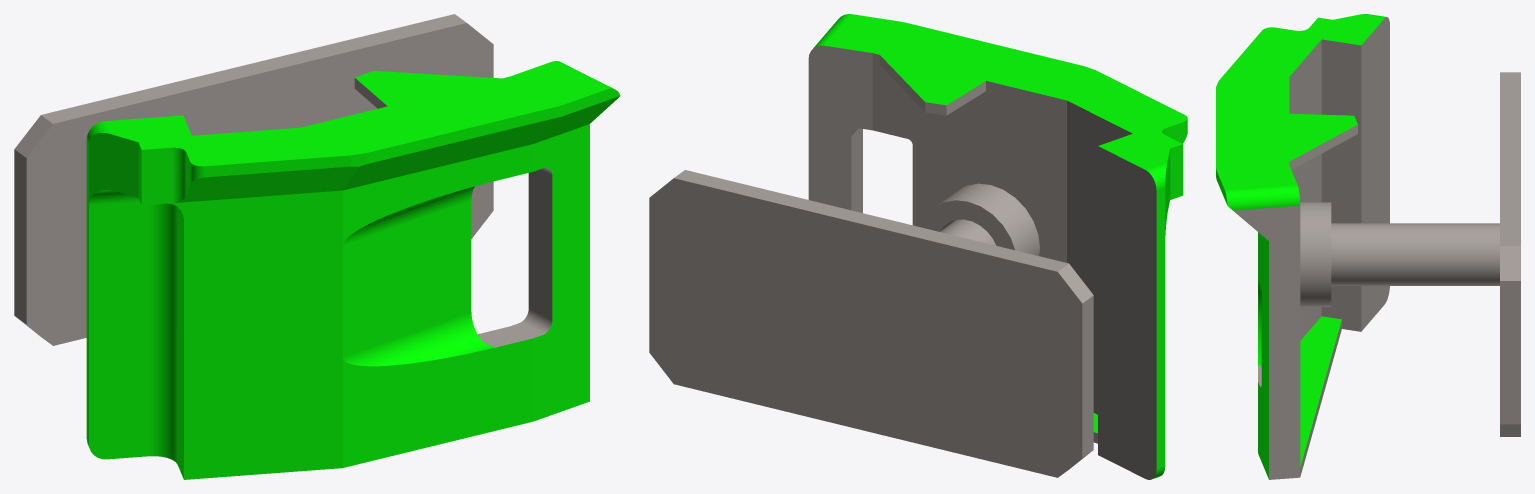
The model's file is source.obj.
The picture shows the model from 3 angles, left to right: view 1: azimuth 30°, elevation 25°; view 2: azimuth 150°, elevation 25°; view 3: azimuth 270°, elevation 25°; orthographic projection. The views are drawn at different scales.
Parts seen in each view (by area): view 1: sample_step; view 2: sample_step; view 3: sample_step.
Boxes of the visible parts, x1=… form: sample_step: x1=14, y1=14, x2=620, y2=479; sample_step: x1=649, y1=14, x2=1187, y2=479; sample_step: x1=1216, y1=14, x2=1520, y2=479.
Bounding box in the file's own units: 0.2235 × 0.15 × 0.1448.
